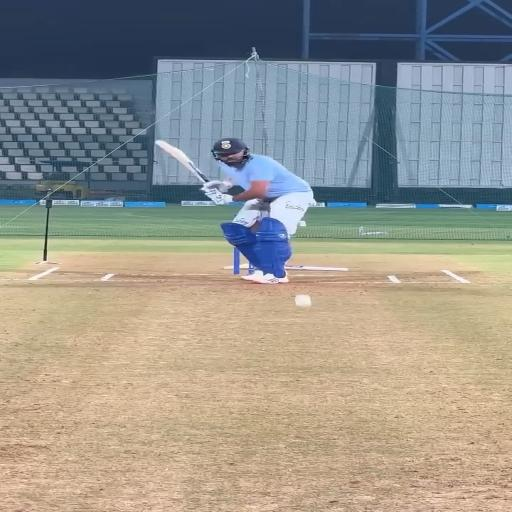Cricket bat: (155, 140, 209, 182)
